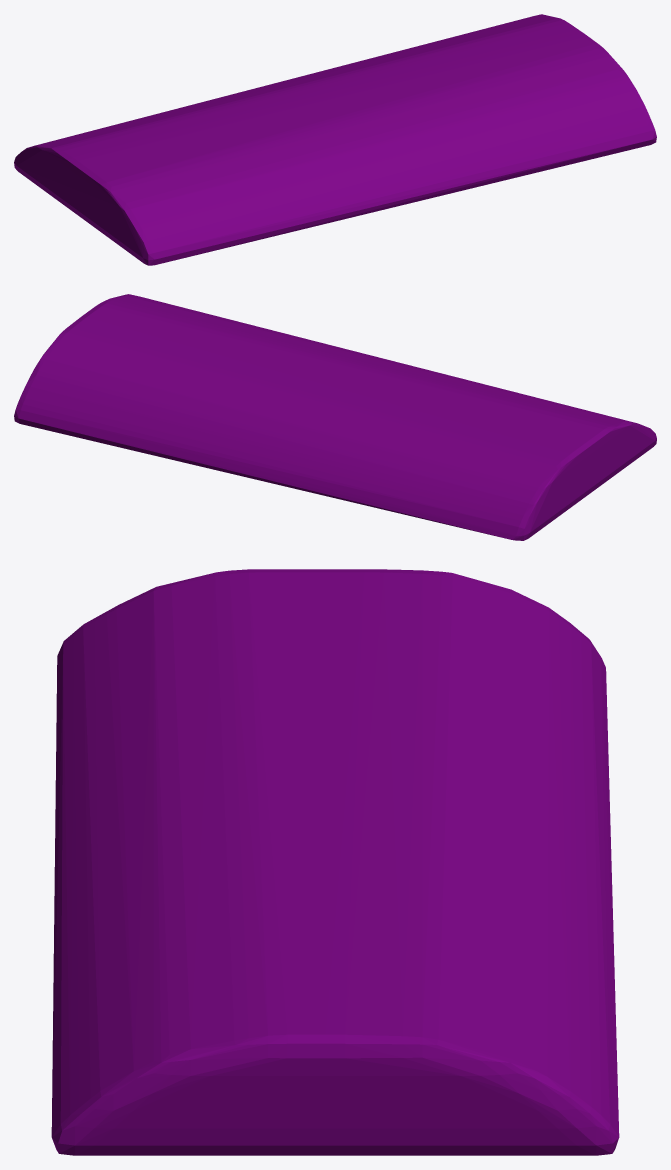
The model's file is right_elbow_link_part_11.obj.
3 renders of one model, top to bottom at view 1: azimuth 30°, elevation 25°; view 2: azimuth 150°, elevation 25°; view 3: azimuth 270°, elevation 25°, orthographic. The views are drawn at different scales.
Size of the model in its own units: 0.0903 by 0.01 by 0.0436.
